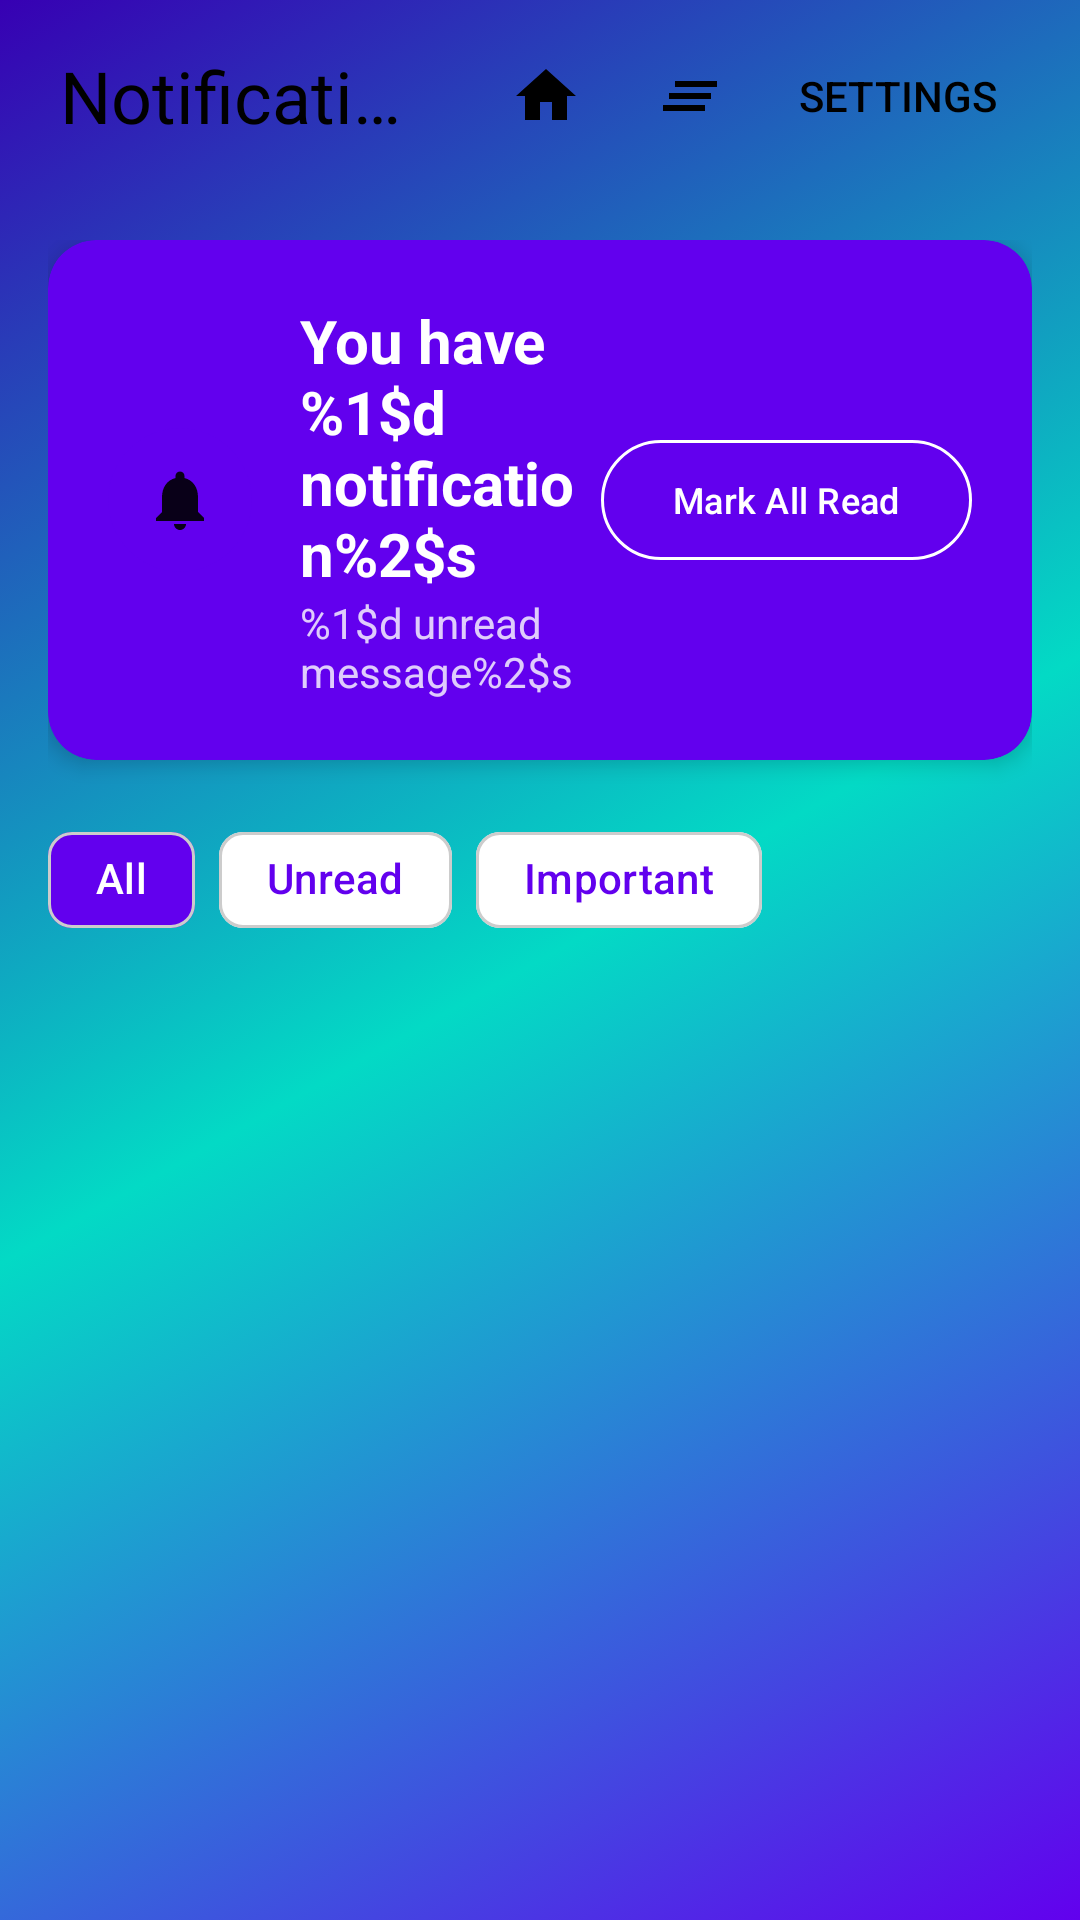

Screen size 1080 x 1920. Icon name, then its box in pixels as [x1, y1, x2, y2]:
Notifications: [156, 471, 204, 530]
